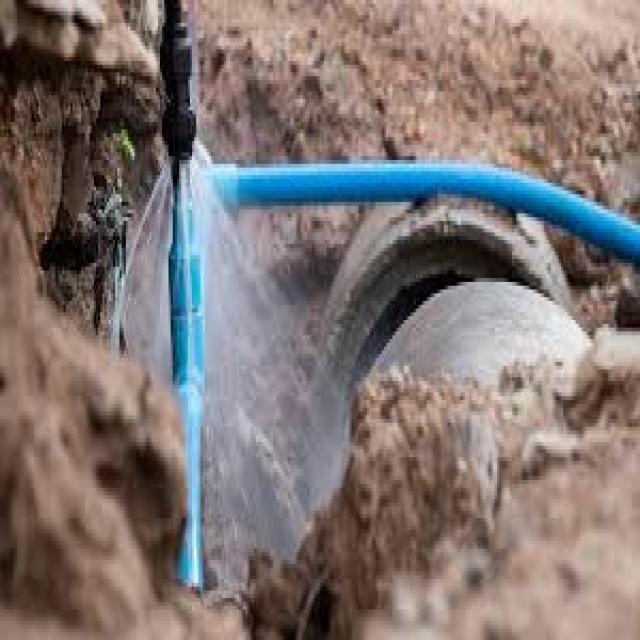corrosion: (138, 94, 333, 469)
